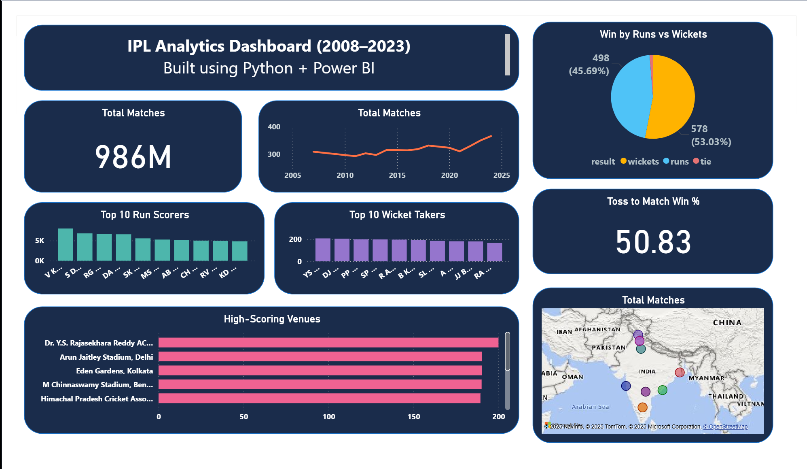

This screenshot's page, from the dashboard's own definition file:
{"tool":"powerbi","page":{"name":"Page 1","canvas":[1280,720],"ordinal":0},"visuals":[{"type":"card","title":"Total Matches","fields":{"Values":["Sum(cleaned_matches.id)"]},"box":[11.7,139,358.5,150.7],"z":0},{"type":"clusteredColumnChart","title":"Top 10 Wicket Takers","fields":{"Category":["top_bowlers.bowler"],"Y":["Sum(top_bowlers.player_dismissed)"]},"box":[422.9,305.9,402.4,150.7],"z":1000},{"type":"pieChart","title":"Win by Runs vs Wickets","fields":{"Category":["cleaned_matches.result"],"Y":["CountNonNull(cleaned_matches.result)"]},"box":[847.3,10.2,395.1,257.6],"z":2000},{"type":"lineChart","title":"Total Matches","fields":{"Category":["avg_score_season.season"],"Y":["Sum(avg_score_season.total_runs)"]},"box":[396.6,139,428.8,150.7],"z":3000},{"type":"clusteredColumnChart","title":"Top 10 Run Scorers","fields":{"Category":["top_batsmen.batter"],"Y":["Sum(top_batsmen.batsman_runs)"]},"box":[11.7,305.9,395.1,150.7],"z":4000},{"type":"clusteredBarChart","title":"High-Scoring Venues","fields":{"Category":["venue_avg_scores.venue"],"Y":["Sum(venue_avg_scores.total_runs)"]},"box":[11.7,477.1,813.7,209.3],"z":5000},{"type":"card","title":"Toss to Match Win %","fields":{"Values":["avg_score_season.Toss_Win %"]},"box":[847.3,283.9,395.1,140.5],"z":6000},{"type":"map","title":"Total Matches","fields":{"Category":["venue_avg_scores.venue"],"Series":["venue_avg_scores.total_runs"],"Size":["Sum(cleaned_matches.id)"]},"box":[847.3,446.3,395.1,254.6],"z":8000},{"type":"textbox","box":[11.7,14.6,813.7,108.3],"z":9001}]}

Visuals, with their boxes in screenshot pixels (x1, y1, x2, y2):
"Total Matches" card: <box>28,100,243,191</box>
"Top 10 Wicket Takers" clusteredColumnChart: <box>275,200,516,291</box>
"Win by Runs vs Wickets" pieChart: <box>529,23,766,177</box>
"Total Matches" lineChart: <box>259,100,516,191</box>
"Top 10 Run Scorers" clusteredColumnChart: <box>28,200,265,291</box>
"High-Scoring Venues" clusteredBarChart: <box>28,303,516,428</box>
"Toss to Match Win %" card: <box>529,187,766,271</box>
"Total Matches" map: <box>529,284,766,437</box>
textbox: <box>28,26,516,91</box>
